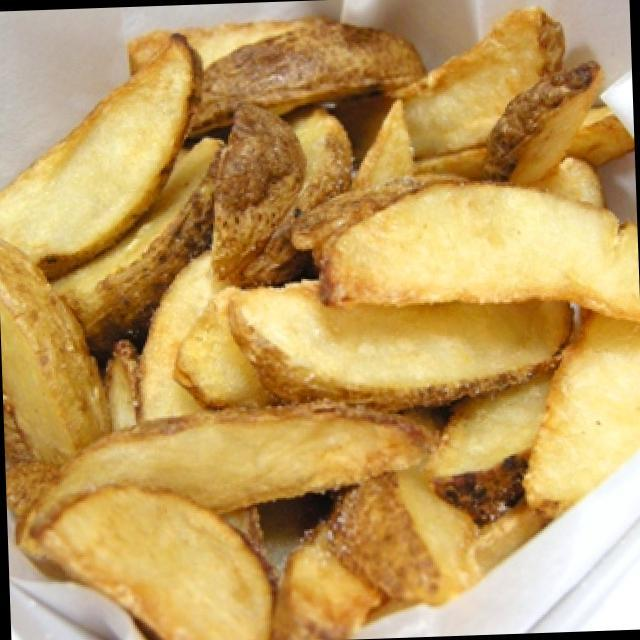French Fries: (0, 11, 632, 608)
